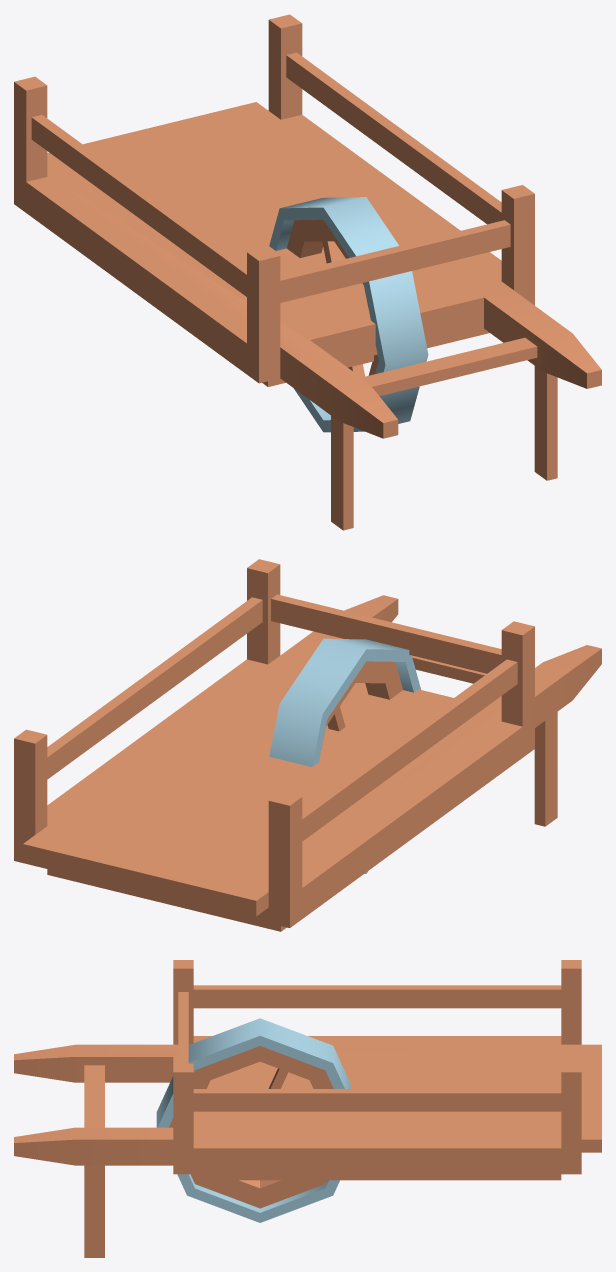
File: cart.glb
3 renders of one model, top to bottom at view 1: azimuth 30°, elevation 25°; view 2: azimuth 150°, elevation 25°; view 3: azimuth 270°, elevation 25°, orthographic. The views are drawn at different scales.
Parts seen in each view (by area): view 1: cart, cart.001; view 2: cart, cart.001; view 3: cart, cart.001.
Part boxes in pixels (x1,y1,x2,y2): cart: (14, 14, 601, 530); cart.001: (269, 197, 428, 432); cart: (14, 559, 601, 931); cart.001: (269, 638, 420, 873); cart: (14, 960, 601, 1257); cart.001: (156, 1018, 350, 1222).
Size of the model in its own units: 1.95 by 1.61 by 4.32.
